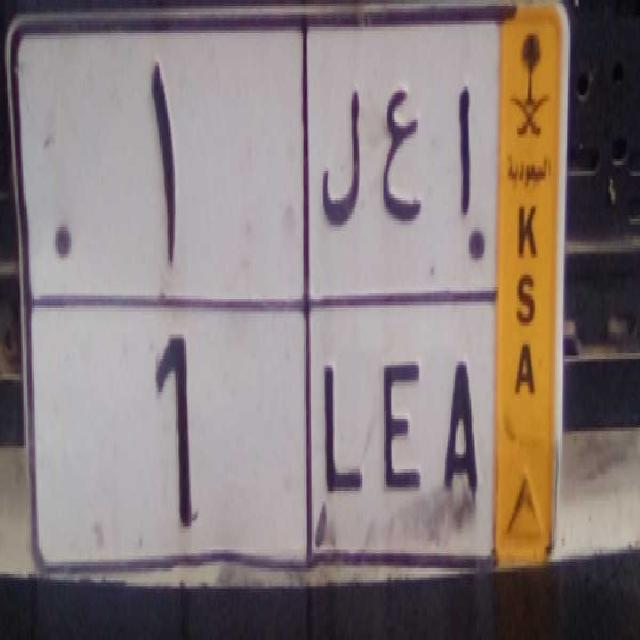license_plate: (28, 297, 497, 562)
